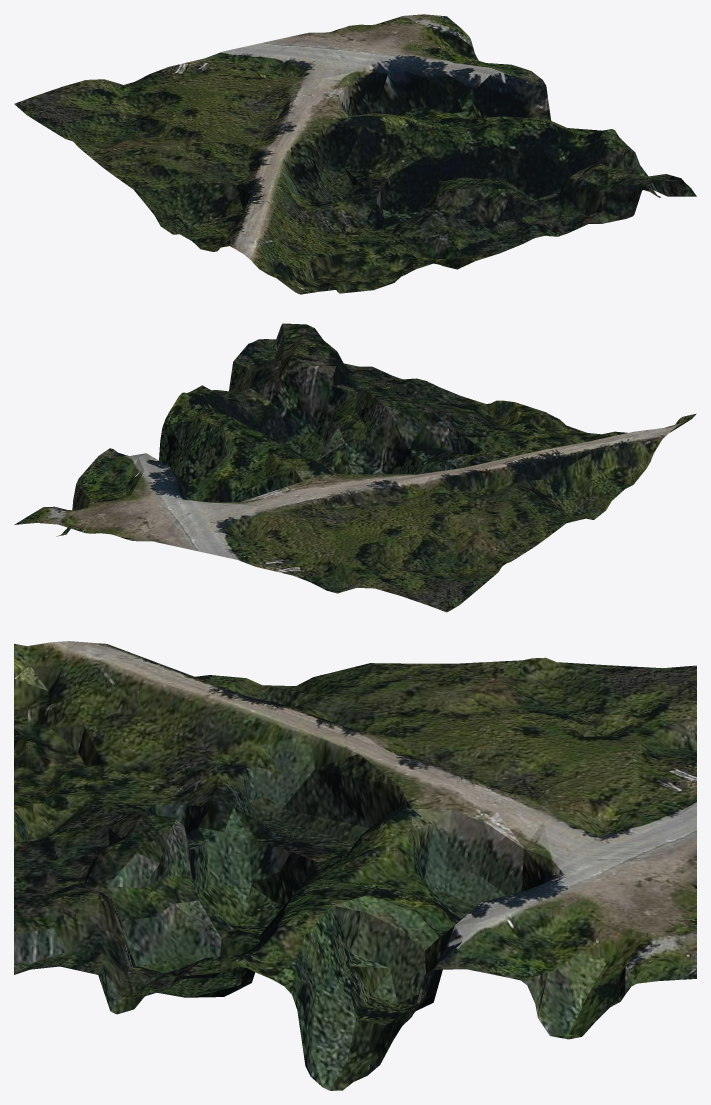
File: map_15_8180_13780.dae
3 renders of one model, top to bottom at view 1: azimuth 30°, elevation 25°; view 2: azimuth 150°, elevation 25°; view 3: azimuth 270°, elevation 25°, orthographic. The views are drawn at different scales.
Parts seen in each view (by area): view 1: Ter0; view 2: Ter0; view 3: Ter0.
Boxes of the visible parts, x1=… form: Ter0: x1=14, y1=14, x2=696, y2=294; Ter0: x1=14, y1=323, x2=696, y2=612; Ter0: x1=14, y1=641, x2=696, y2=1090.
Bounding box in the file's own units: 63.88 × 63.88 × 16.64.
Materials: 3 (3 with a texture image).
